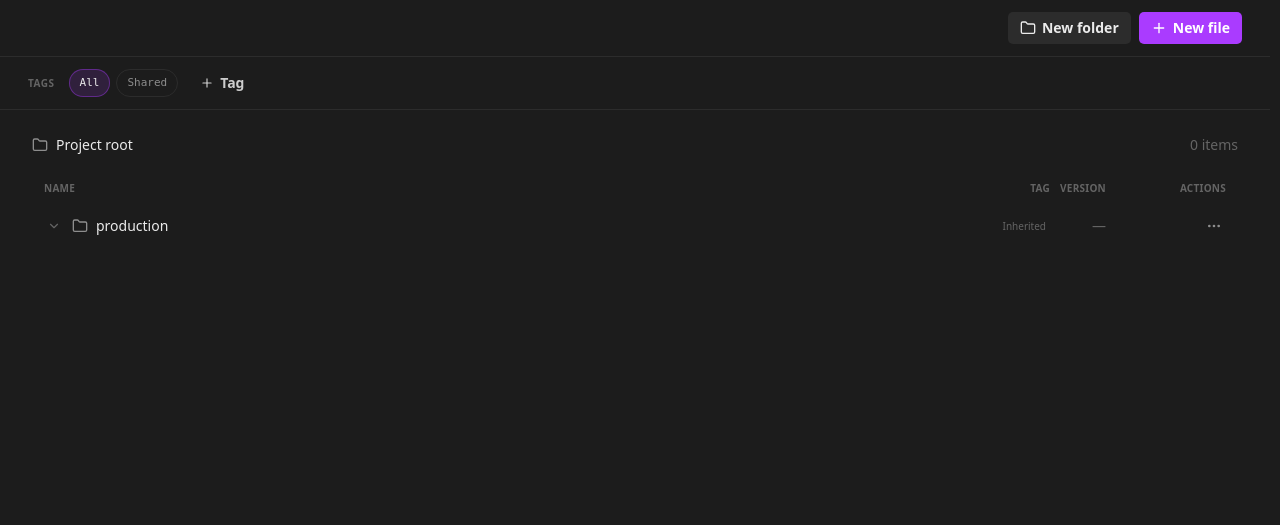
Scenario: ProjectFilesPanel › offers rename and move actions for a folder
Click the button named "Folder actions production" at (1214, 226), box [1198,210,1230,242]
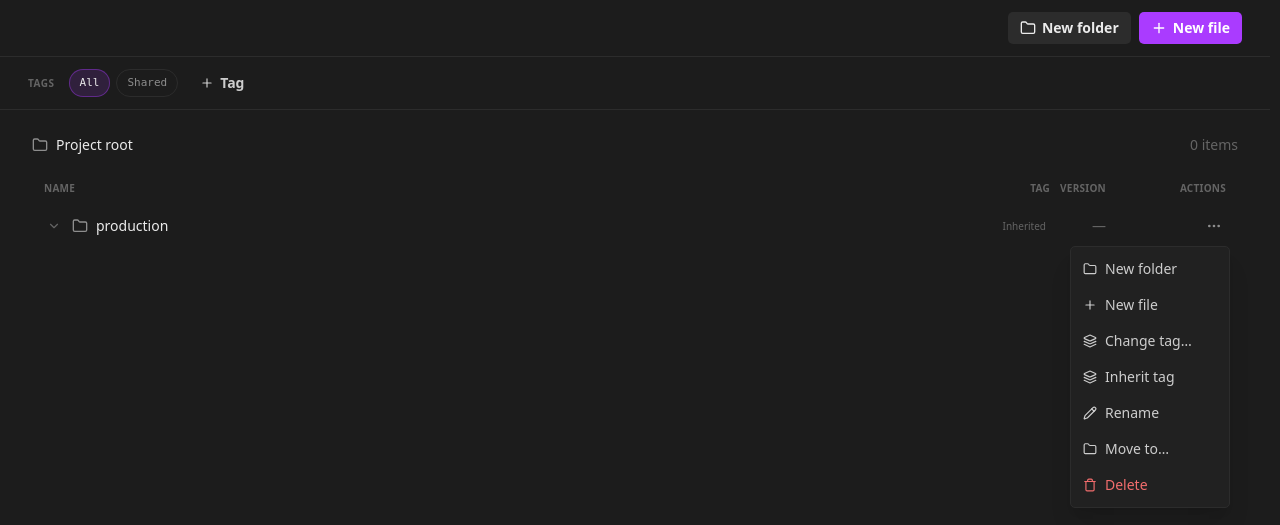
Check: the button with aria-label "Rename folder production" is shown, box [1075,395,1225,431]
Check: the button with aria-label "Move folder production" is shown, box [1075,431,1225,467]
